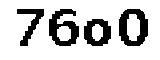0: (116, 4, 150, 54)
6: (47, 5, 81, 52)
7: (11, 8, 45, 50)
o: (81, 17, 113, 51)
